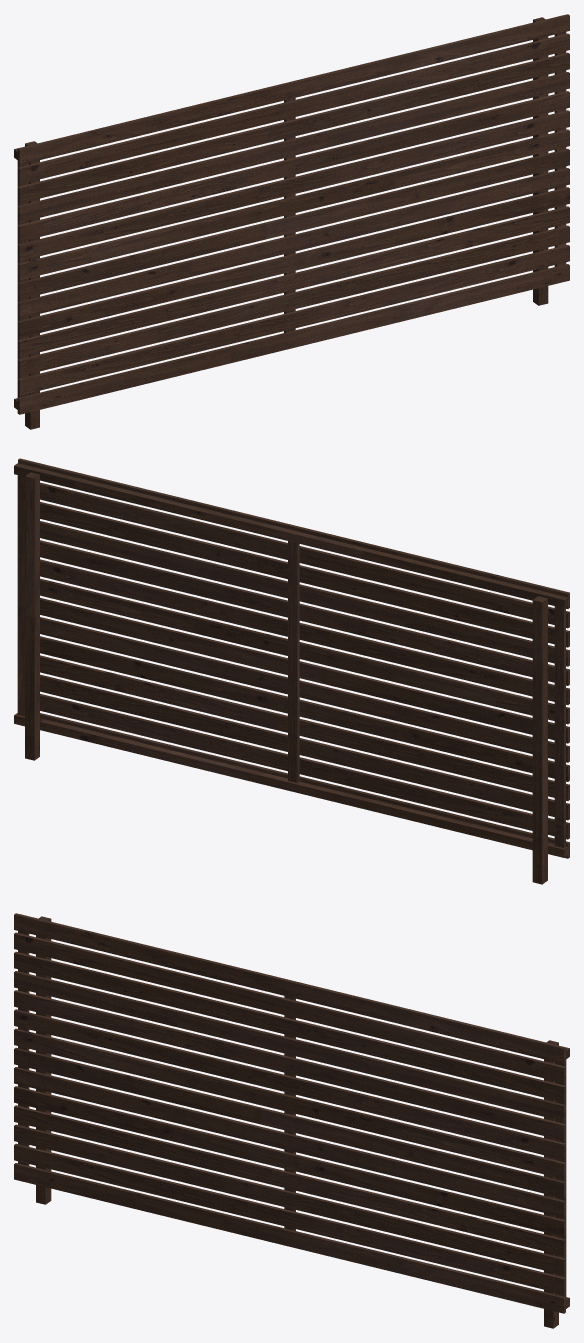
File: EAF-plus-53_w1999-h1000_darkpine.fbx
The picture shows the model from 3 angles, top to bottom: view 1: azimuth 30°, elevation 25°; view 2: azimuth 150°, elevation 25°; view 3: azimuth 330°, elevation 25°; orthographic projection.
Visible parts, largest first — view 1: EAF-plus-53_w1999-h1000_chacoalgray.002; view 2: EAF-plus-53_w1999-h1000_chacoalgray.002; view 3: EAF-plus-53_w1999-h1000_chacoalgray.002.
Part boxes in pixels (x1,y1,x2,y2): EAF-plus-53_w1999-h1000_chacoalgray.002: (14, 14, 569, 429); EAF-plus-53_w1999-h1000_chacoalgray.002: (14, 458, 569, 884); EAF-plus-53_w1999-h1000_chacoalgray.002: (14, 913, 569, 1328).
Size of the model in its own units: 200 by 99.97 by 7.
1 material, 1 textured.
